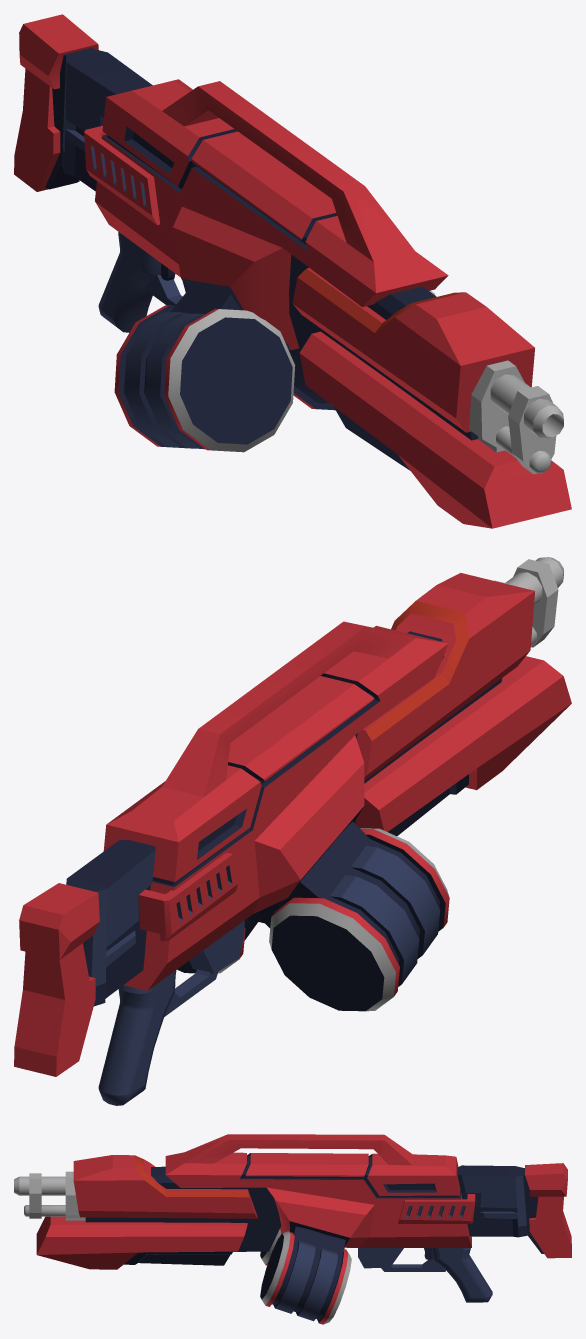
The model's file is Scifi Gun 09.fbx.
The picture shows the model from 3 angles, top to bottom: view 1: azimuth 30°, elevation 25°; view 2: azimuth 150°, elevation 25°; view 3: azimuth 270°, elevation 25°; orthographic projection. The views are drawn at different scales.
Parts seen in each view (by area): view 1: matchine gun 1, matchine gun 1_mag; view 2: matchine gun 1, matchine gun 1_mag; view 3: matchine gun 1, matchine gun 1_mag.
Boxes of the visible parts, x1,y1,x2,y2 form: matchine gun 1: (14, 14, 571, 528); matchine gun 1_mag: (114, 287, 435, 452); matchine gun 1: (14, 557, 571, 1105); matchine gun 1_mag: (177, 821, 449, 1011); matchine gun 1: (14, 1134, 571, 1302); matchine gun 1_mag: (260, 1226, 351, 1324).
Bounding box in the file's own units: 34.86 × 36.06 × 111.
